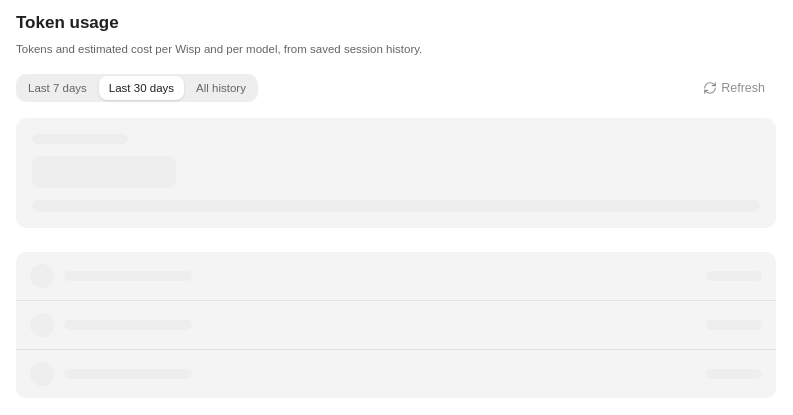
UsageSettingsSection › ignores a stale response when the period changes
Click the radio button labelled "All history".
click(221, 88)  # box [186, 76, 256, 100]
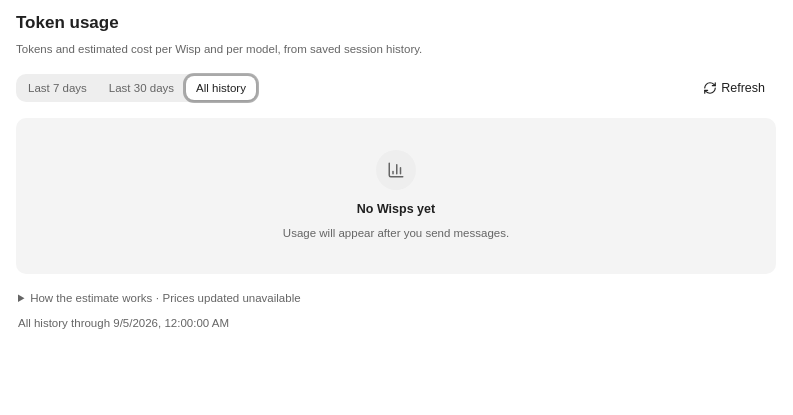
Expected: the text "No Wisps yet" is shown, [357, 200, 435, 219]
